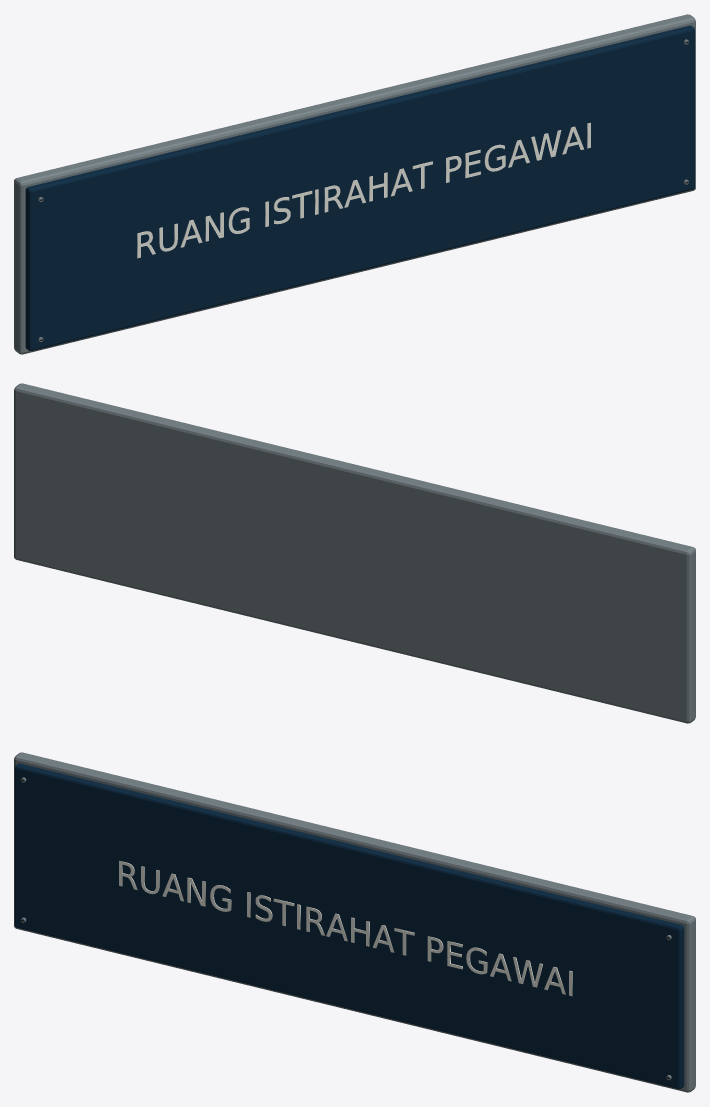
Rendered from OAA_Papan_Ruang_Ruang_Istirahat_Pegawai.fbx.
3 views of the same model, one above another, from view 1: azimuth 30°, elevation 25°; view 2: azimuth 150°, elevation 25°; view 3: azimuth 330°, elevation 25° (orthographic).
Visible parts, largest first — view 1: Body; view 2: Body; view 3: Body.
Boxes of the visible parts, x1,y1,x2,y2 form: Body: (14,14,695,354); Body: (14,383,695,723); Body: (14,752,695,1092).
Size of the model in its own units: 0.9 by 0.22 by 0.0312.
